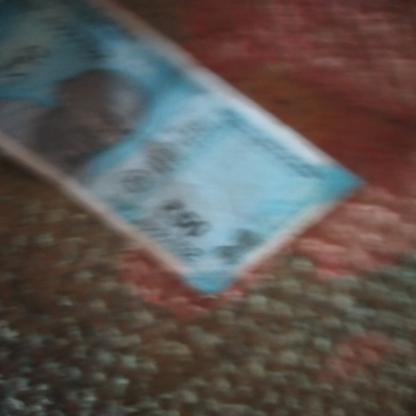New50Front: (0, 4, 332, 274)
